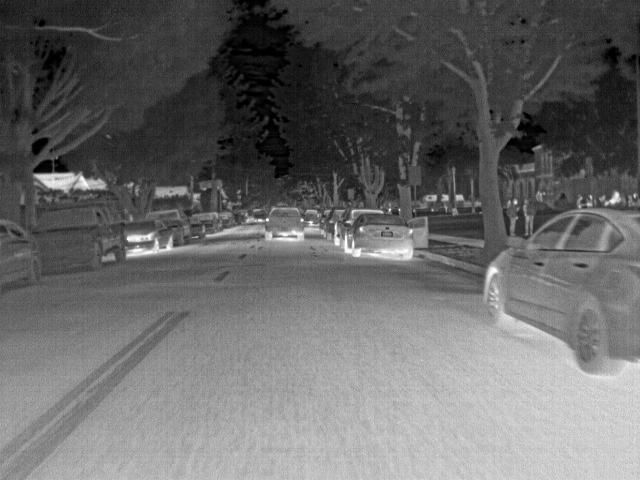car: (480, 205, 639, 376), (38, 202, 126, 268), (346, 212, 431, 260), (0, 218, 41, 288), (128, 218, 173, 252), (335, 206, 369, 248), (266, 204, 306, 239), (163, 208, 190, 245), (325, 206, 343, 238), (189, 211, 206, 238), (202, 211, 219, 232), (218, 209, 234, 228), (317, 206, 329, 231), (251, 206, 269, 222), (304, 206, 319, 223), (234, 208, 247, 224)
person: (505, 195, 520, 237), (523, 195, 536, 236), (604, 190, 623, 207), (574, 192, 586, 209)
